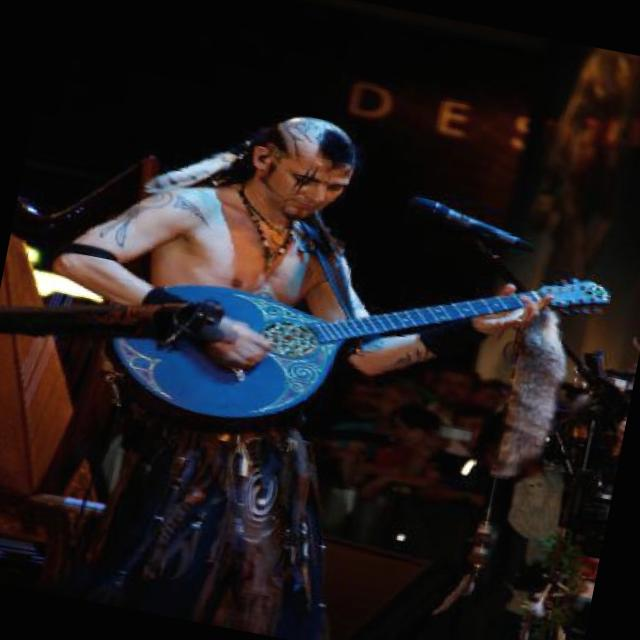Person: (0, 72, 566, 640)
